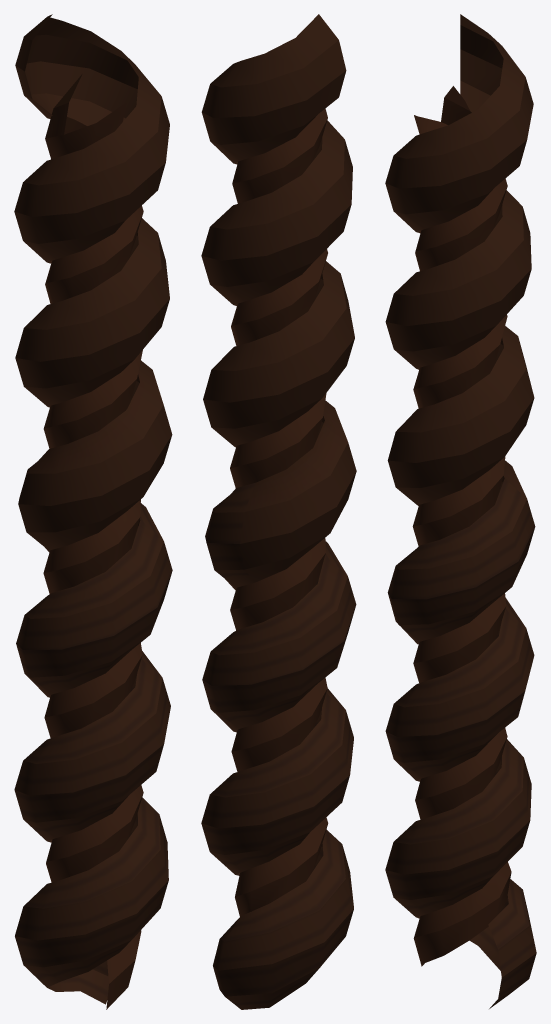
File: rope.fbx
The picture shows the model from 3 angles, left to right: view 1: azimuth 30°, elevation 25°; view 2: azimuth 150°, elevation 25°; view 3: azimuth 270°, elevation 25°; orthographic projection. The views are drawn at different scales.
Visible parts, largest first — view 1: rope; view 2: rope; view 3: rope.
Boxes of the visible parts, box(x1,y1,x2,y2) form: rope: box(14, 14, 172, 1009); rope: box(201, 14, 356, 1009); rope: box(385, 14, 536, 1008).
Size of the model in its own units: 0.9789 by 6.94 by 0.9876.
